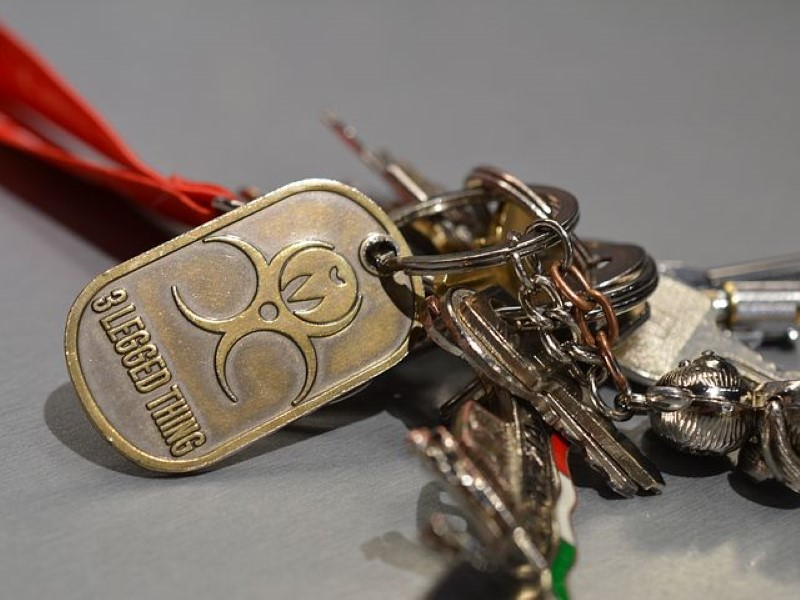key: (418, 281, 670, 502)
